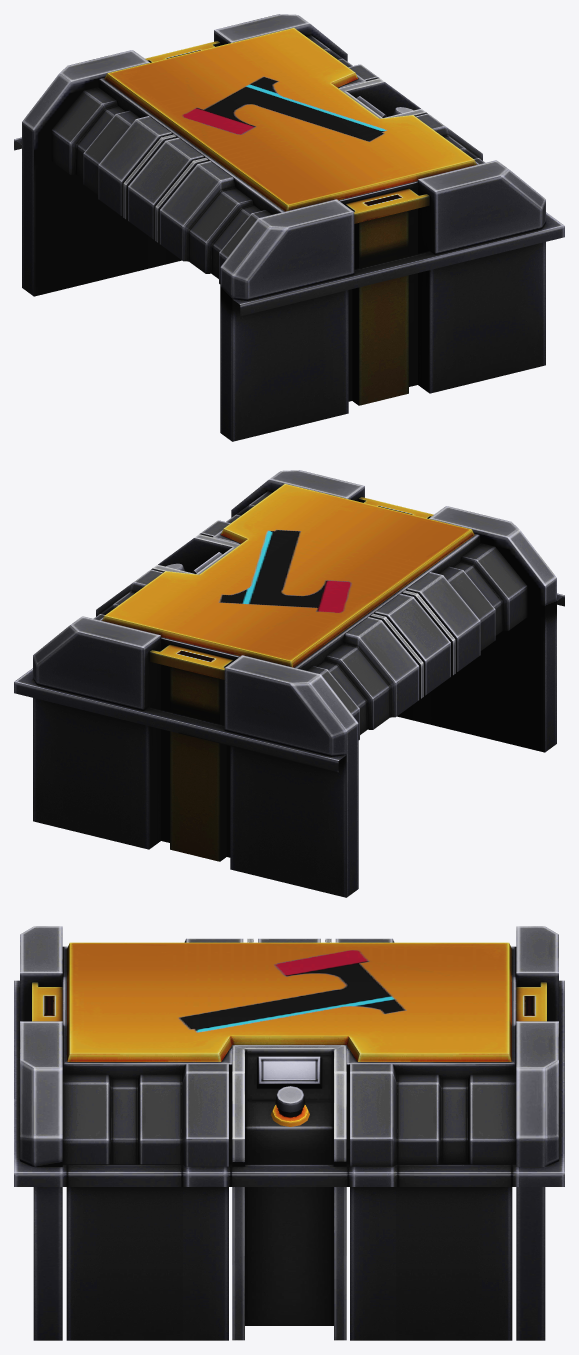
File: trap_205_mufrfm.fbx
3 renders of one model, top to bottom at view 1: azimuth 30°, elevation 25°; view 2: azimuth 150°, elevation 25°; view 3: azimuth 270°, elevation 25°, orthographic. The views are drawn at different scales.
Visible parts, largest first — view 1: trap_205_mufrfm; view 2: trap_205_mufrfm; view 3: trap_205_mufrfm.
Part boxes in pixels (x1,y1,x2,y2): trap_205_mufrfm: (14,14,564,441); trap_205_mufrfm: (14,470,564,897); trap_205_mufrfm: (14,926,564,1340).
Size of the model in its own units: 0.5863 by 0.3596 by 0.7088.
Materials: 1 (1 with a texture image).
